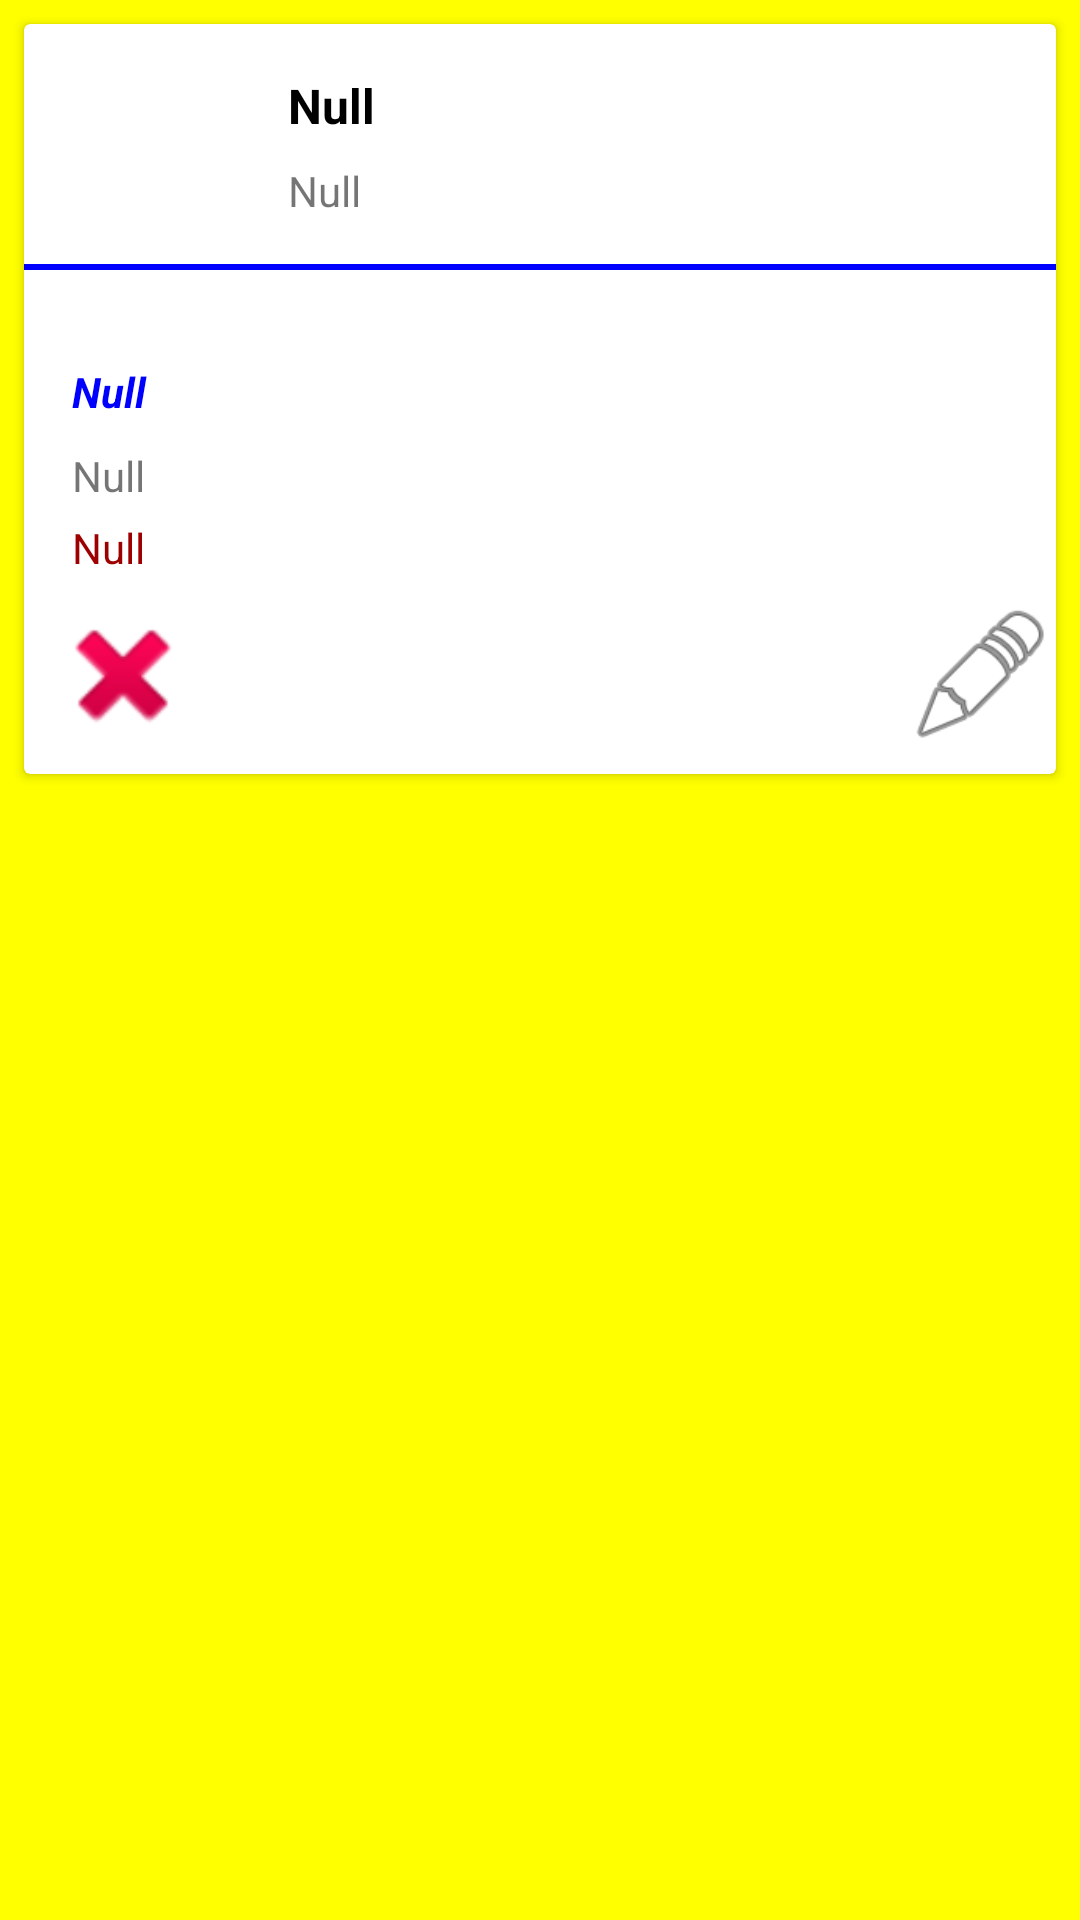

Named icons in this screenshot (1080 x 1920) and their centers, (x=x, y=y):
delete: (x=123, y=676)
edit: (x=980, y=674)
